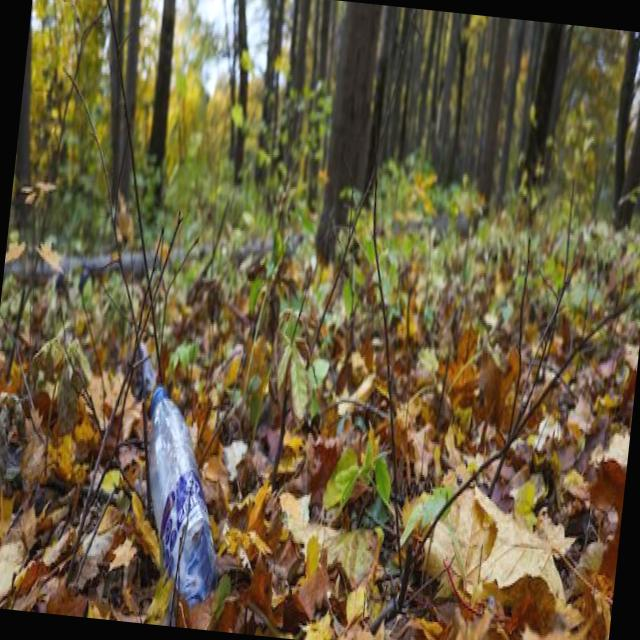garbage: (120, 348, 258, 606)
